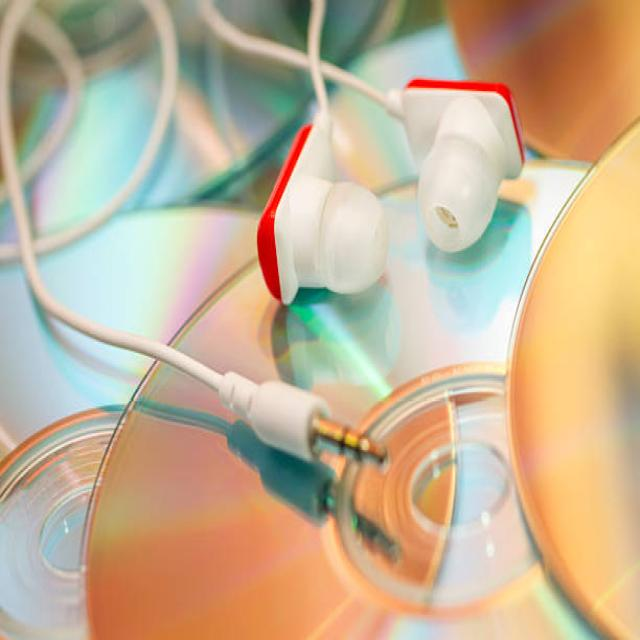Earphone: (1, 0, 526, 464)
